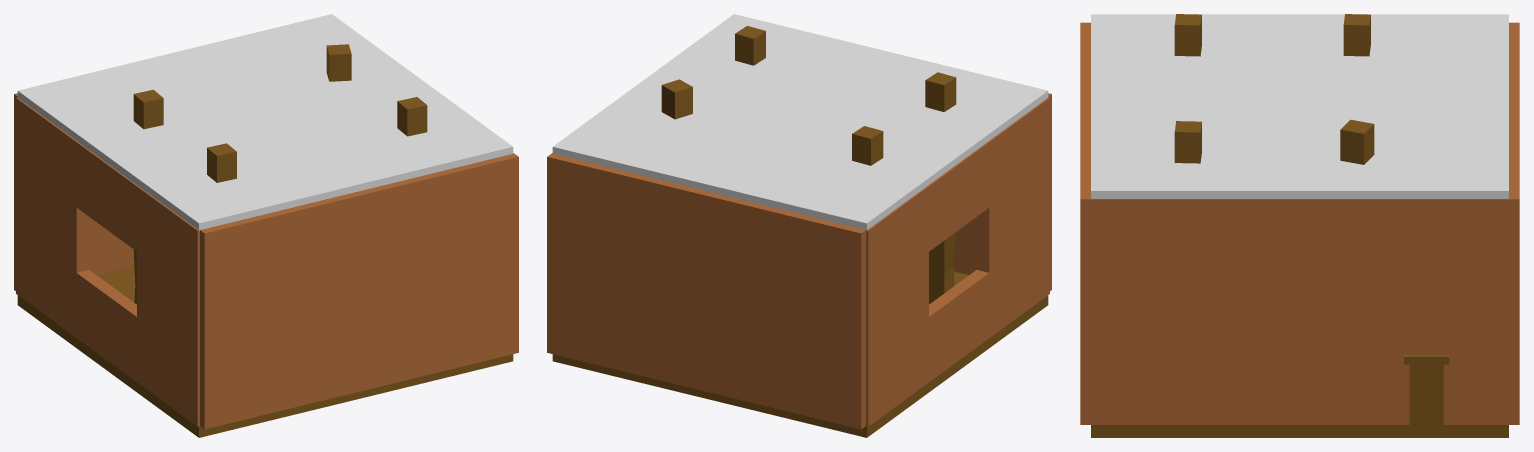
The model's file is Scene Grent.fbx.
The picture shows the model from 3 angles, left to right: view 1: azimuth 30°, elevation 25°; view 2: azimuth 150°, elevation 25°; view 3: azimuth 270°, elevation 25°; orthographic projection. The views are drawn at different scales.
Parts seen in each view (by area): view 1: Cube.035, Cube.040, Cube.032, Cube, Cube.034, Cube.039, Cube.038, Cube.037, Cube.036; view 2: Cube.034, Cube.040, Cube.032, Cube, Cube.037, Cube.035, Cube.036, Cube.039, Cube.038; view 3: Cube.033, Cube.040, Cube.034, Cube.035, Cube, Cube.031, Cube.036, Cube.038, Cube.039, Cube.037.
Part boxes in pixels (<box>): Cube.035: <box>200,153,518,429</box>; Cube.040: <box>17,14,513,231</box>; Cube.032: <box>16,97,199,426</box>; Cube: <box>17,266,513,437</box>; Cube.034: <box>14,93,134,290</box>; Cube.039: <box>133,89,163,304</box>; Cube.038: <box>397,97,427,136</box>; Cube.037: <box>207,143,236,182</box>; Cube.036: <box>326,44,351,81</box>; Cube.034: <box>547,153,865,429</box>; Cube.040: <box>552,14,1048,234</box>; Cube.032: <box>866,97,1049,426</box>; Cube: <box>552,271,1048,437</box>; Cube.037: <box>925,72,956,304</box>; Cube.035: <box>953,93,1051,290</box>; Cube.036: <box>661,79,692,119</box>; Cube.039: <box>852,126,883,165</box>; Cube.038: <box>735,26,765,65</box>; Cube.033: <box>1091,199,1508,424</box>; Cube.040: <box>1091,14,1508,198</box>; Cube.034: <box>1502,22,1519,424</box>; Cube.035: <box>1080,22,1097,424</box>; Cube: <box>1091,425,1508,437</box>; Cube.031: <box>1404,354,1449,431</box>; Cube.036: <box>1340,119,1374,164</box>; Cube.038: <box>1174,121,1201,163</box>; Cube.039: <box>1343,14,1370,56</box>; Cube.037: <box>1174,14,1201,56</box>.
Size of the model in its own units: 1014 by 727 by 1040.
